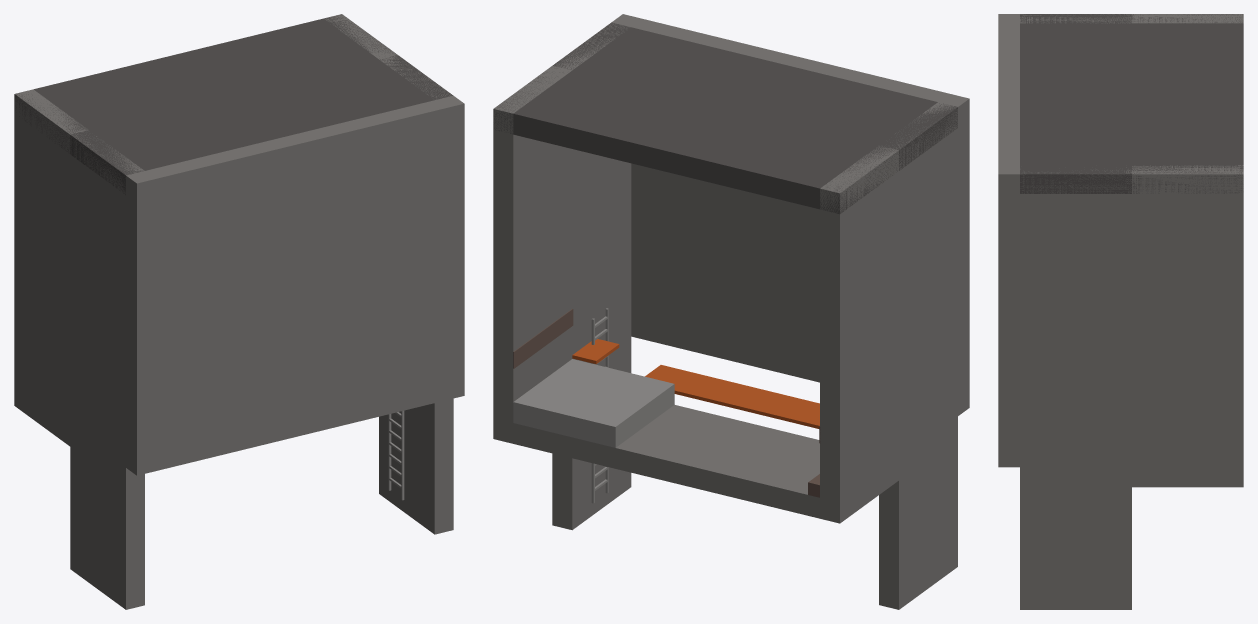
Rendered from B_culvert_drop.glb.
3 renders of one model, left to right at view 1: azimuth 30°, elevation 25°; view 2: azimuth 150°, elevation 25°; view 3: azimuth 270°, elevation 25°, orthographic. The views are drawn at different scales.
Parts seen in each view (by area): view 1: hexa.011, hexa.009, hexa.008, hexa.003, hexa.007, hexa.010, hexa, hexa.005; view 2: hexa.011, hexa.009, hexa.007, hexa.003, hexa.008, hexa.005, hexa, hexa.010, hexa.002, Cube.017, hexa.006, Cube.016; view 3: hexa.010, hexa.005, hexa.008, hexa.007, hexa.011, hexa, hexa.003, hexa.009.
Boxes of the visible parts, box(x1,y1,x2,y2) form: hexa.011: box(126, 95, 464, 475); hexa.009: box(70, 132, 144, 609); hexa.008: box(70, 55, 452, 194); hexa.003: box(14, 89, 88, 444); hexa.007: box(15, 14, 395, 153); hexa.010: box(379, 55, 453, 534); hexa: box(14, 386, 70, 446); hexa.005: box(325, 14, 397, 59); hexa.011: box(611, 14, 969, 415); hexa.009: box(879, 102, 957, 609); hexa.007: box(493, 66, 898, 214); hexa.003: box(820, 146, 898, 523); hexa.008: box(553, 22, 957, 170); hexa.005: box(493, 65, 572, 440); hexa: box(493, 405, 898, 523); hexa.010: box(552, 23, 631, 530); hexa.002: box(513, 359, 674, 447); Cube.017: box(645, 365, 819, 428); hexa.006: box(513, 309, 573, 368); Cube.016: box(572, 339, 619, 364); hexa.010: box(1020, 167, 1131, 609); hexa.005: box(1132, 165, 1243, 487); hexa.008: box(1020, 14, 1131, 193); hexa.007: box(1132, 14, 1243, 193); hexa.011: box(998, 14, 1019, 467); hexa: box(1132, 467, 1243, 487); hexa.003: box(1132, 14, 1243, 23); hexa.009: box(1020, 14, 1131, 23).
Bounding box in the file's own units: 8.68 × 11 × 5.62.
